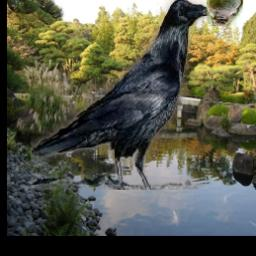Crow: (32, 0, 211, 190)
Sparrow: (208, 0, 244, 27)
